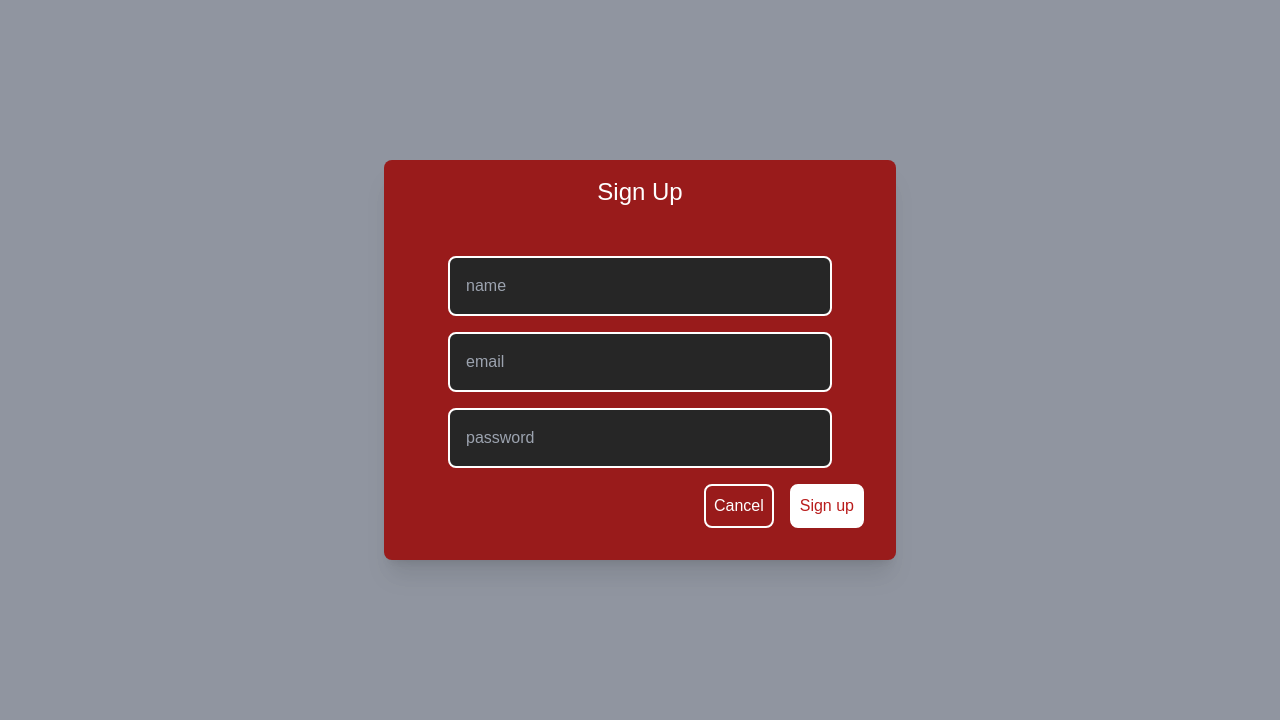
Scenario: SignupModal › displays error notification on failed signup
Type "John1Doe" into the field with placeholder "name" at point(640, 286), box [448,256,832,316]
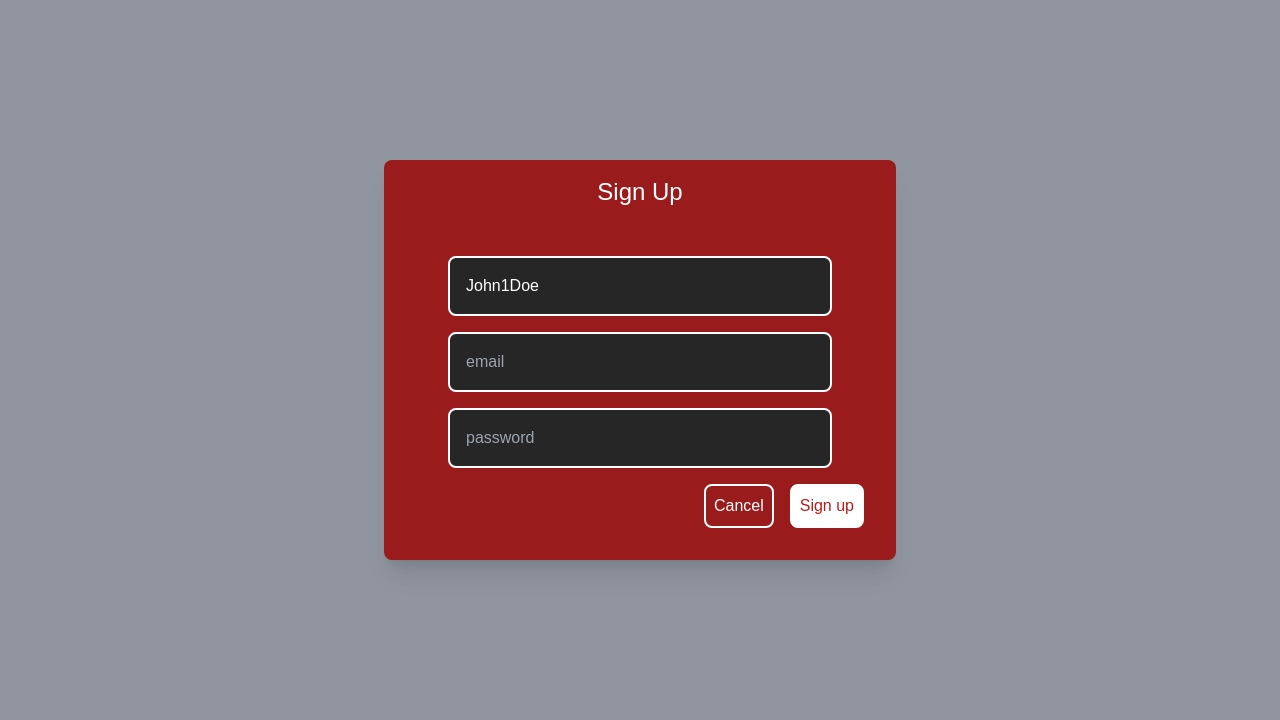
Type "test@tes1112.com" into the field with placeholder "email" at point(640, 362), box [448,332,832,392]
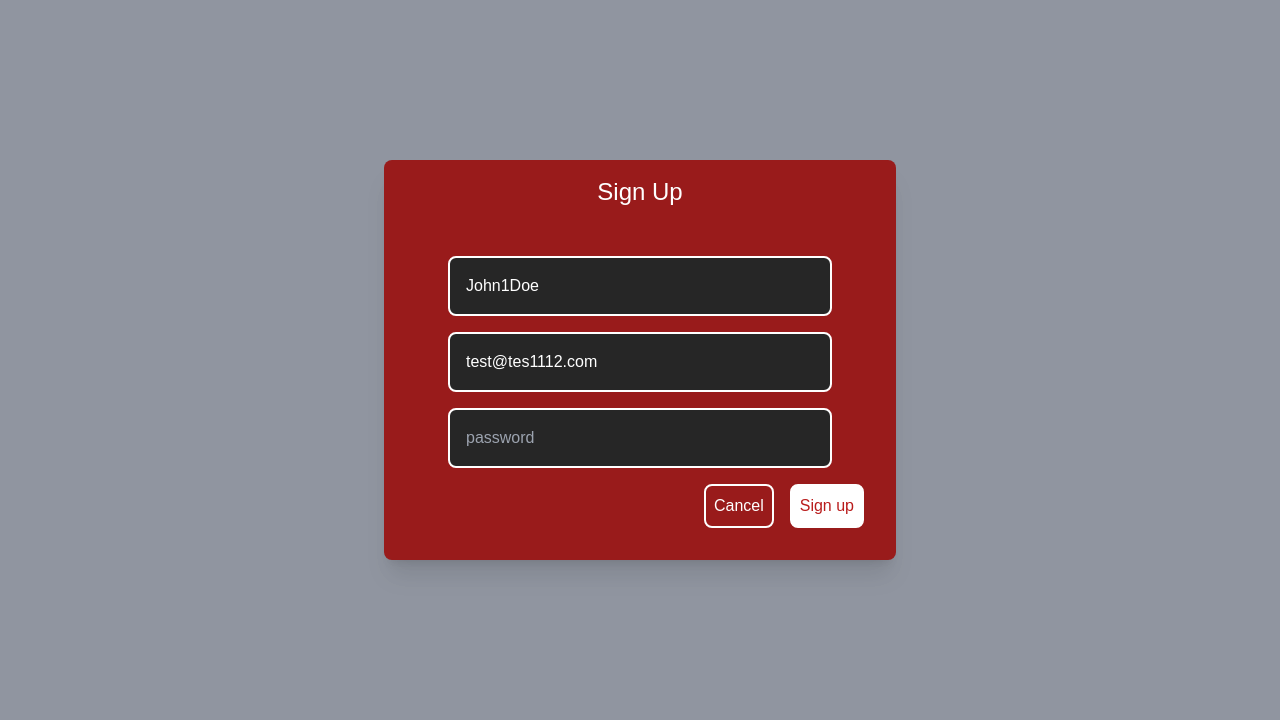
Type "password125233" into the password field with placeholder "password" at point(640, 438), box [448,408,832,468]
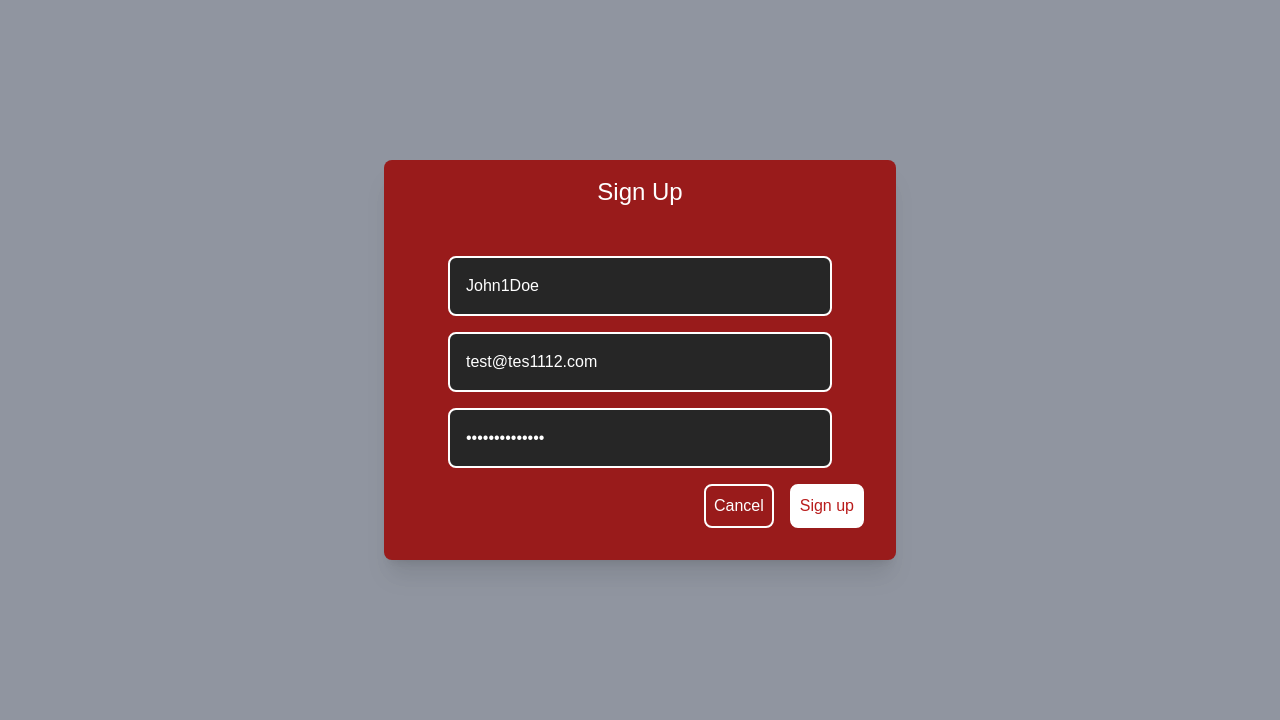
Submit the form, box [448,256,864,528]
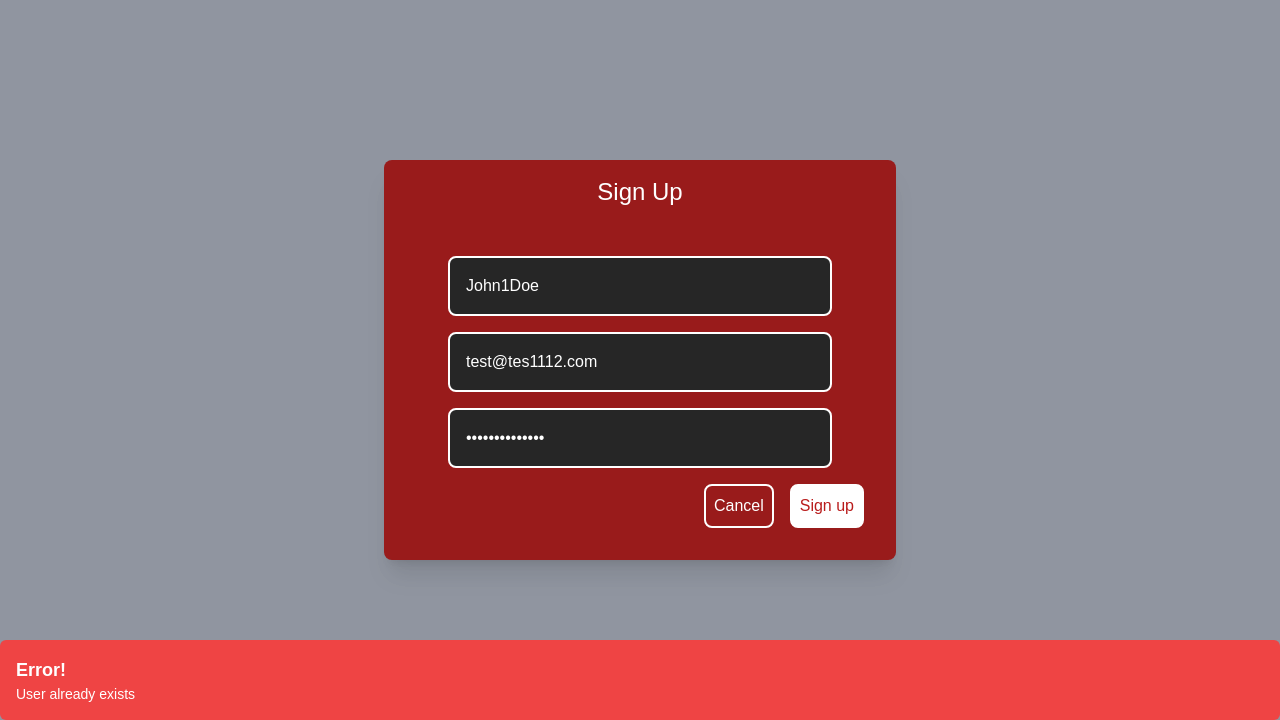
Check: the heading "Error!" is shown, box [16,660,66,680]
